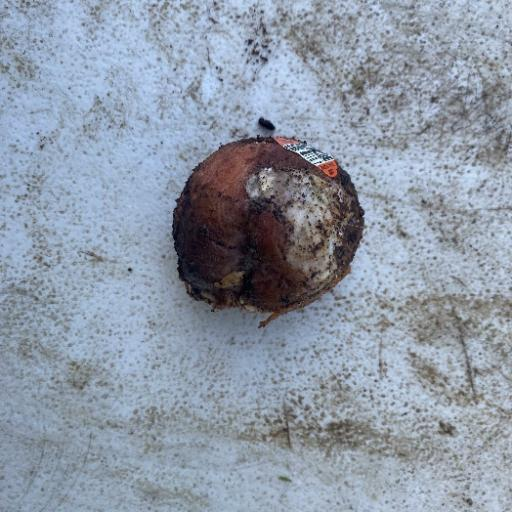Waste: (169, 133, 365, 327)
